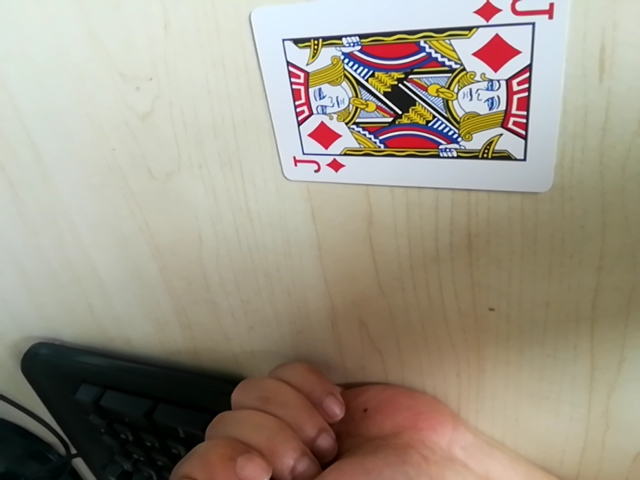fk j: (470, 0, 559, 24), (286, 154, 343, 180)
